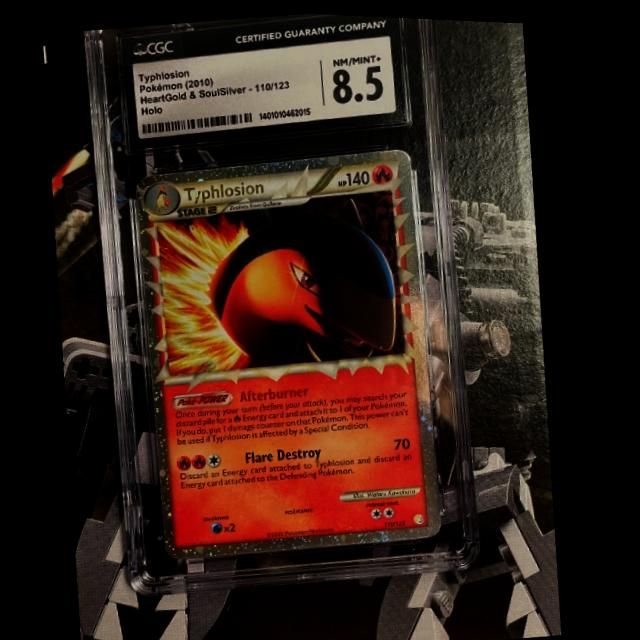card: (135, 145, 448, 558)
cgc_label: (119, 11, 407, 148)
cgc_slab: (83, 10, 489, 594)
